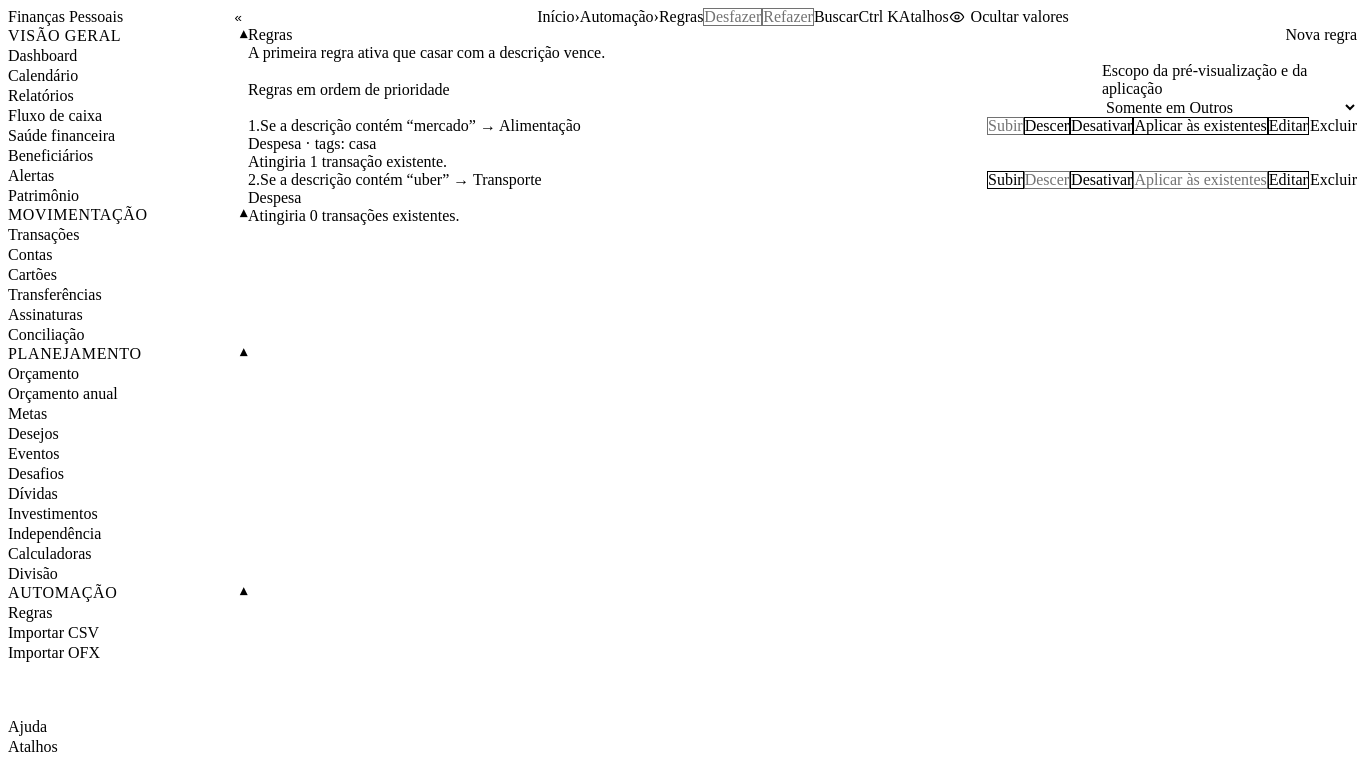
Test: tela Regras (critérios 4 a 7) › critérios 6 e 7: prévia por escopo e aplicação com confirmação
Expected: the text with test id "previa-regra-1" reads "Atingiria 1 transação existente.", [248,153,447,170]
Select "Todas as categorias" in the dropdown labelled "Escopo da pré-visualização e da aplicação" at (1230, 108), box [1102,98,1358,117]
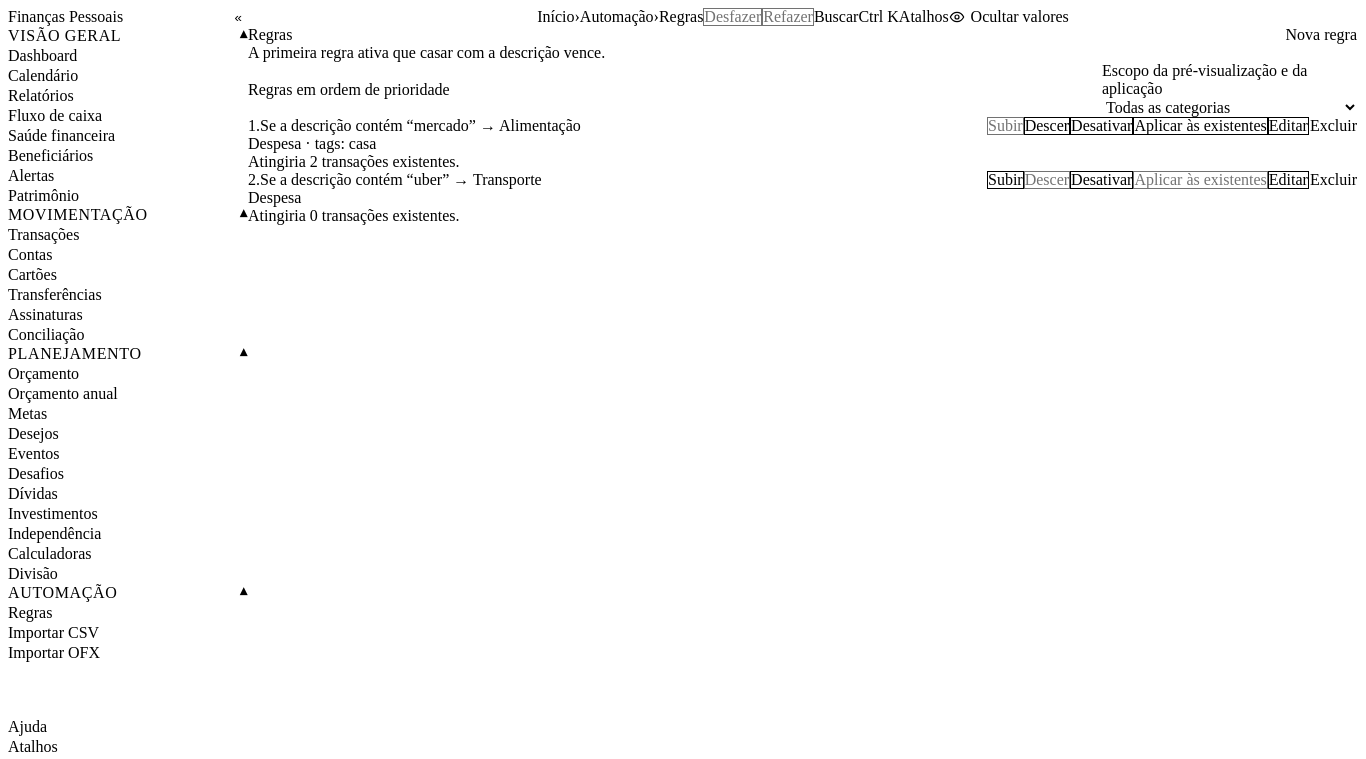
Expected: the text with test id "previa-regra-1" reads "Atingiria 2 transações existentes.", [248,153,460,170]
Select "Somente em Outros" in the dropdown labelled "Escopo da pré-visualização e da aplicação" at (1230, 108), box [1102,98,1358,117]
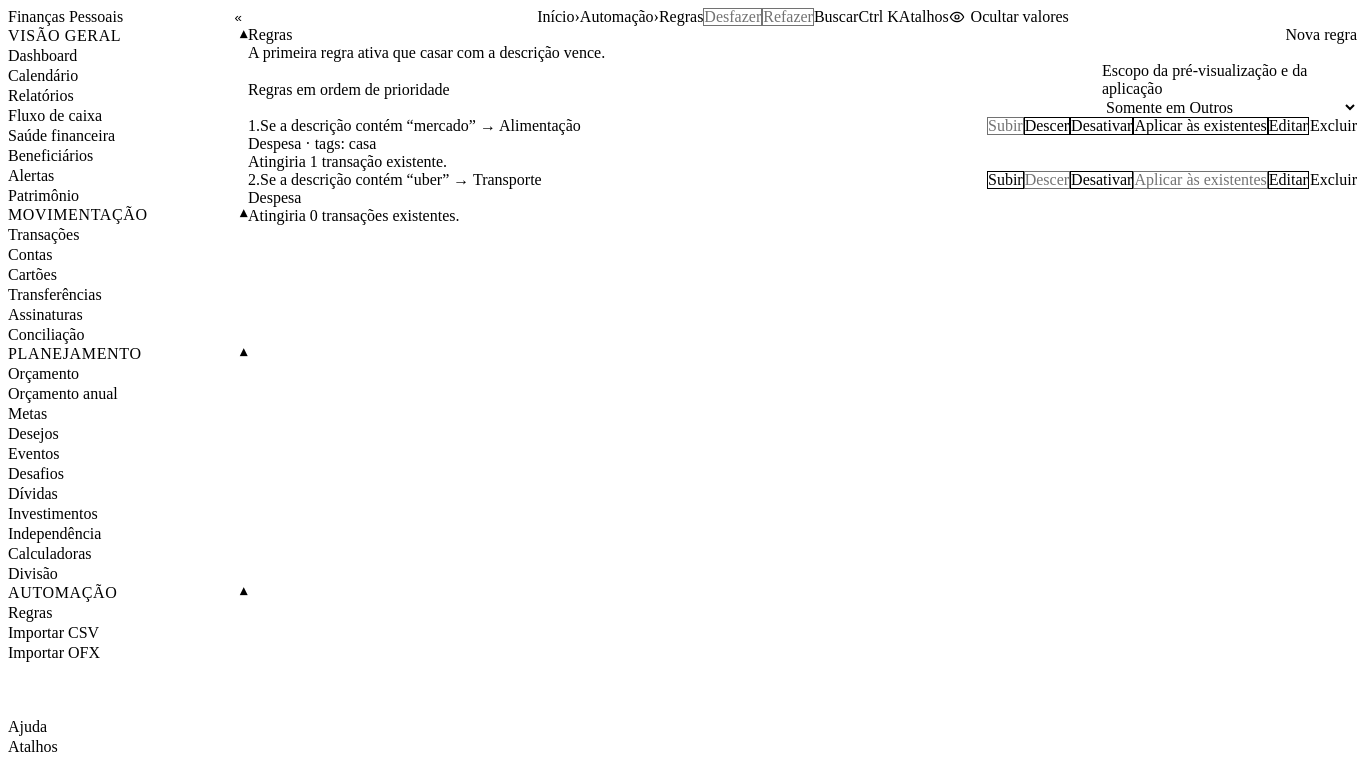
Click the button with aria-label "Aplicar às existentes: regra 1: mercado" at (1201, 126), box [1133,117,1268,135]
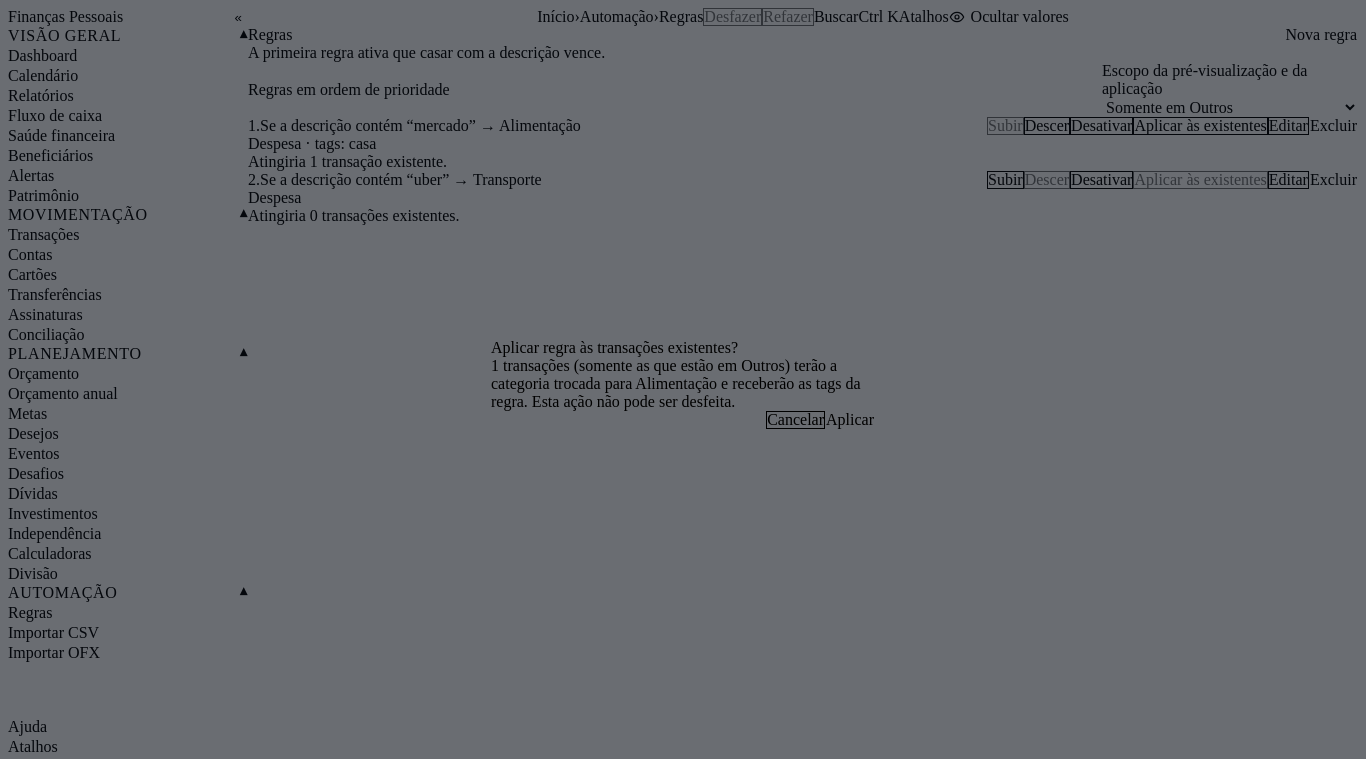
Click the button "Cancelar" at (796, 420), box [766,411,825,429]
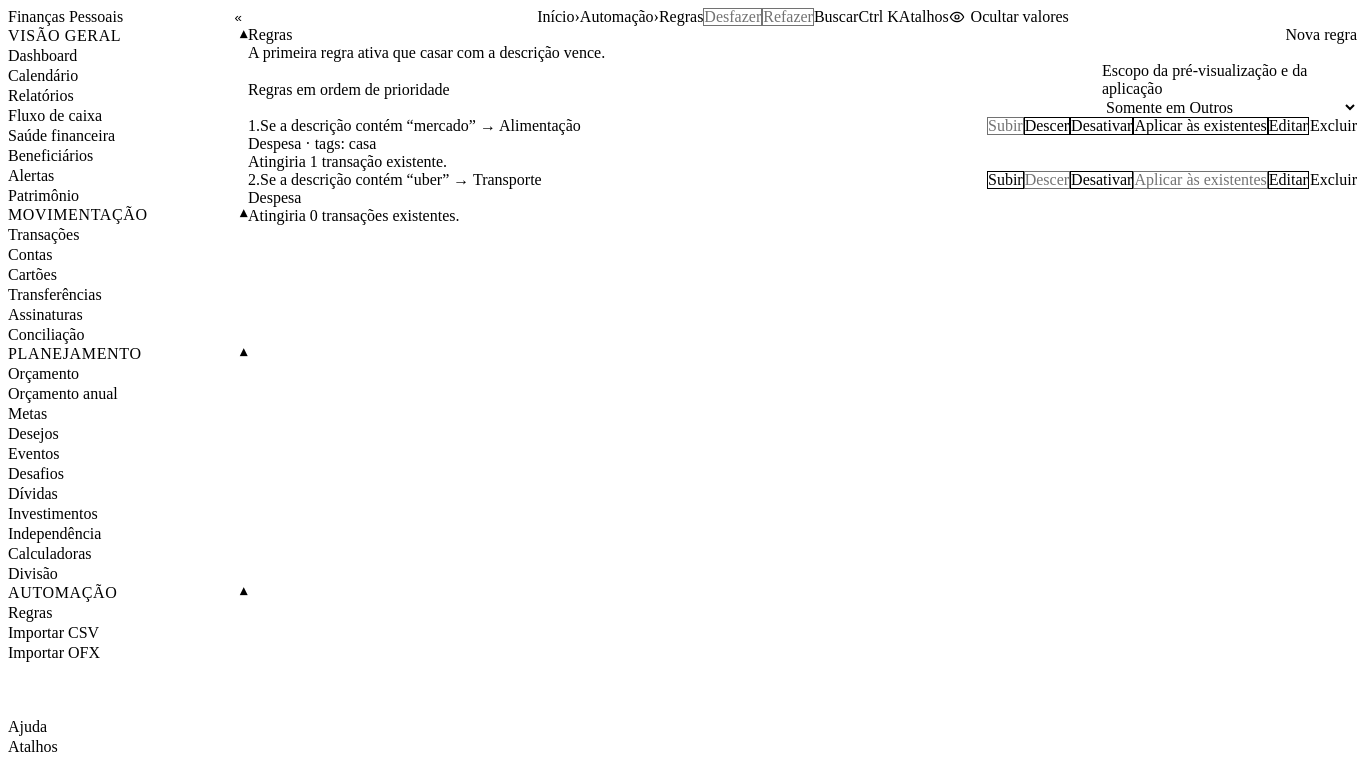
Click the button with aria-label "Aplicar às existentes: regra 1: mercado" at (1201, 126), box [1133,117,1268,135]
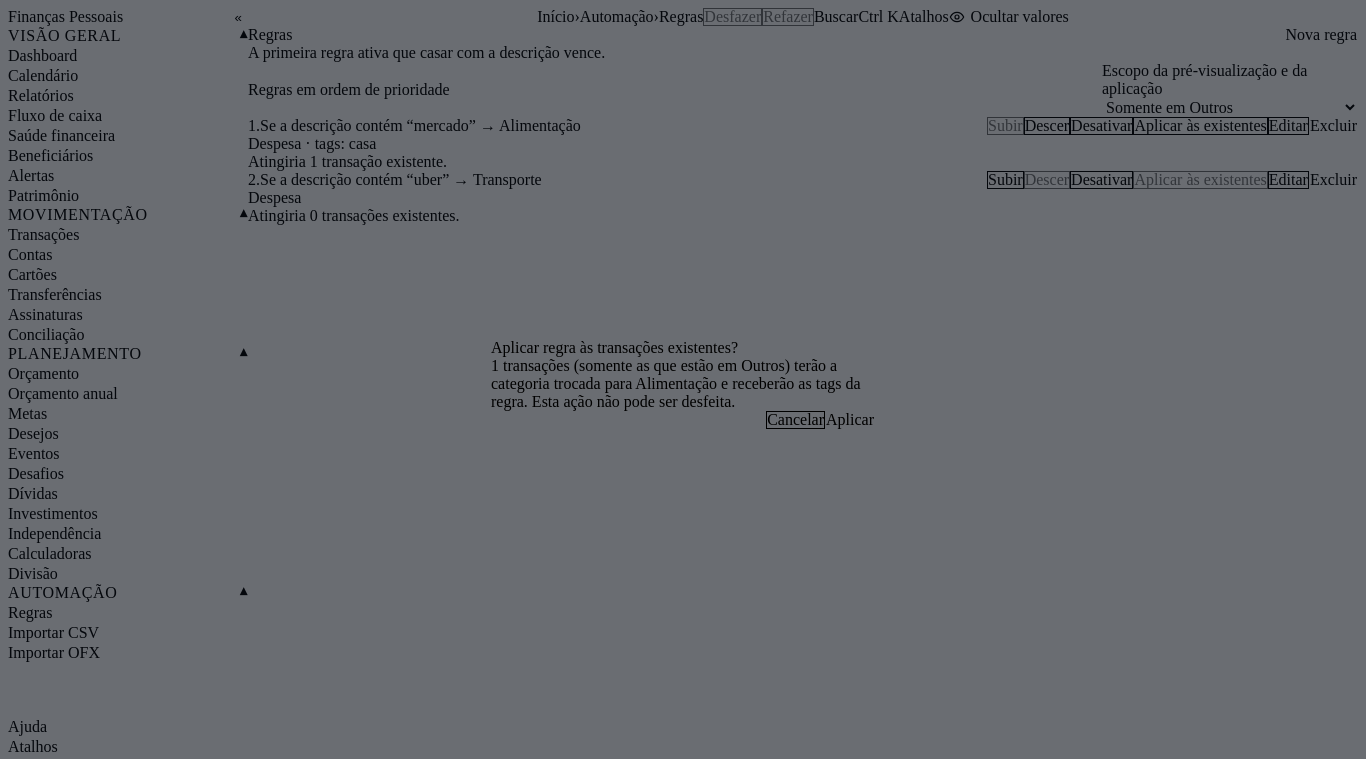
Click the button "Aplicar" at (850, 420), box [825,411,875,429]
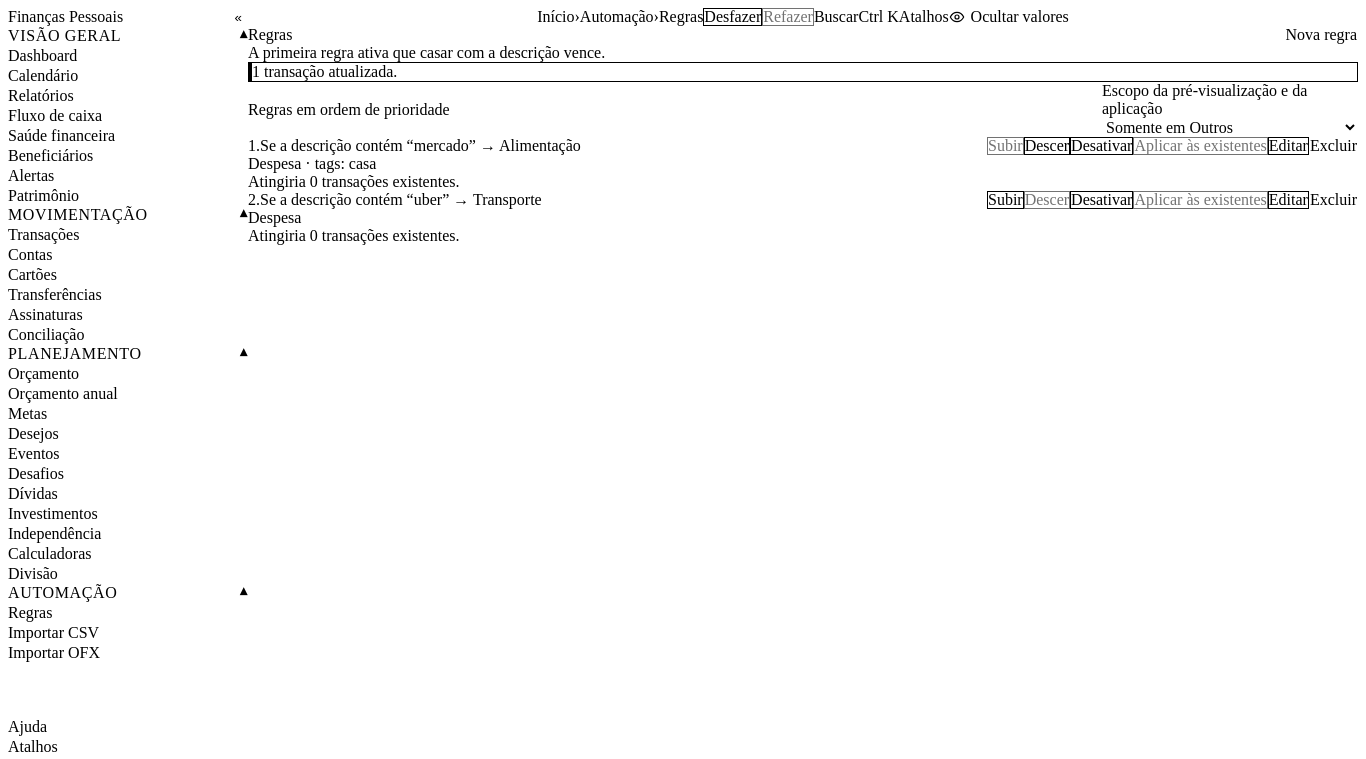
Expected: the message shows "1 transação atualizada", [252,63,397,80]
Expected: the text with test id "previa-regra-1" reads "Atingiria 0 transações existentes.", [248,173,460,190]
